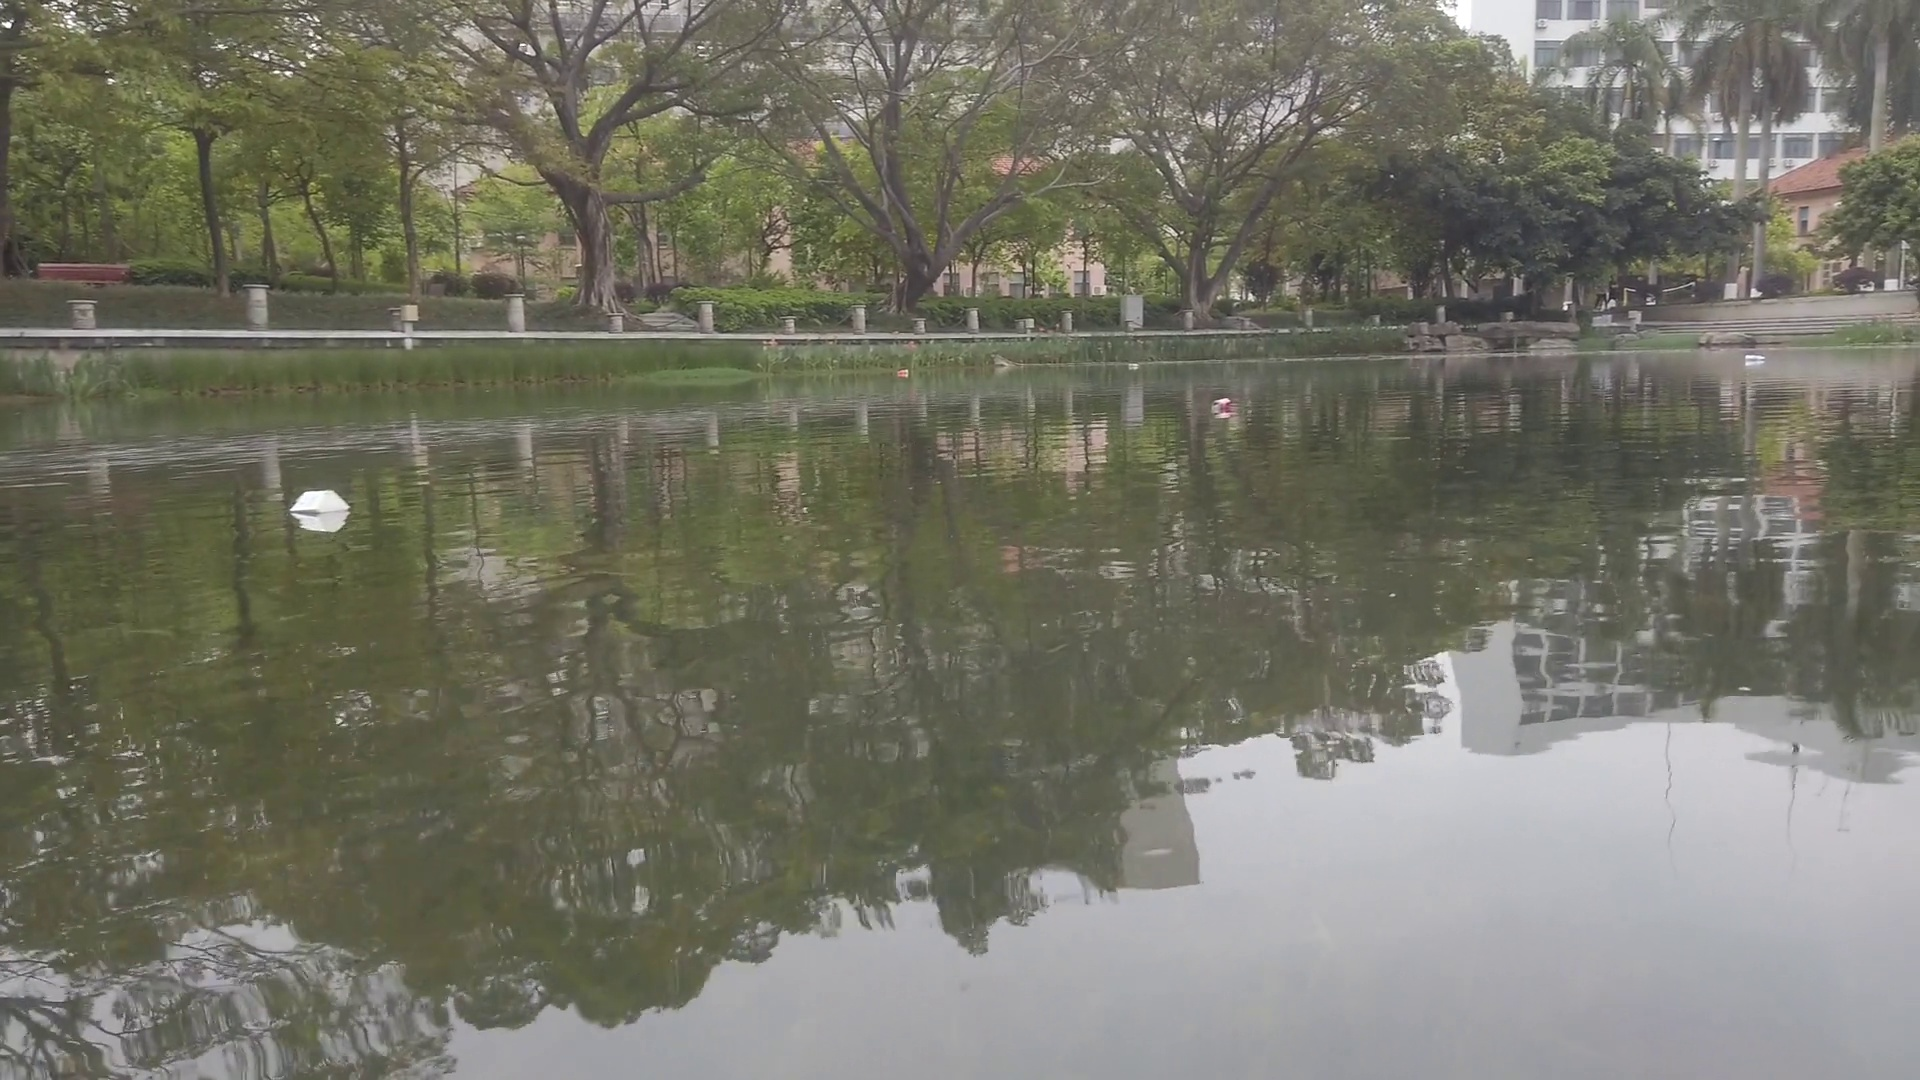bottle: (1211, 397, 1237, 413), (1745, 353, 1767, 367), (898, 368, 911, 376), (1127, 363, 1139, 368)
carton: (297, 488, 359, 518)
